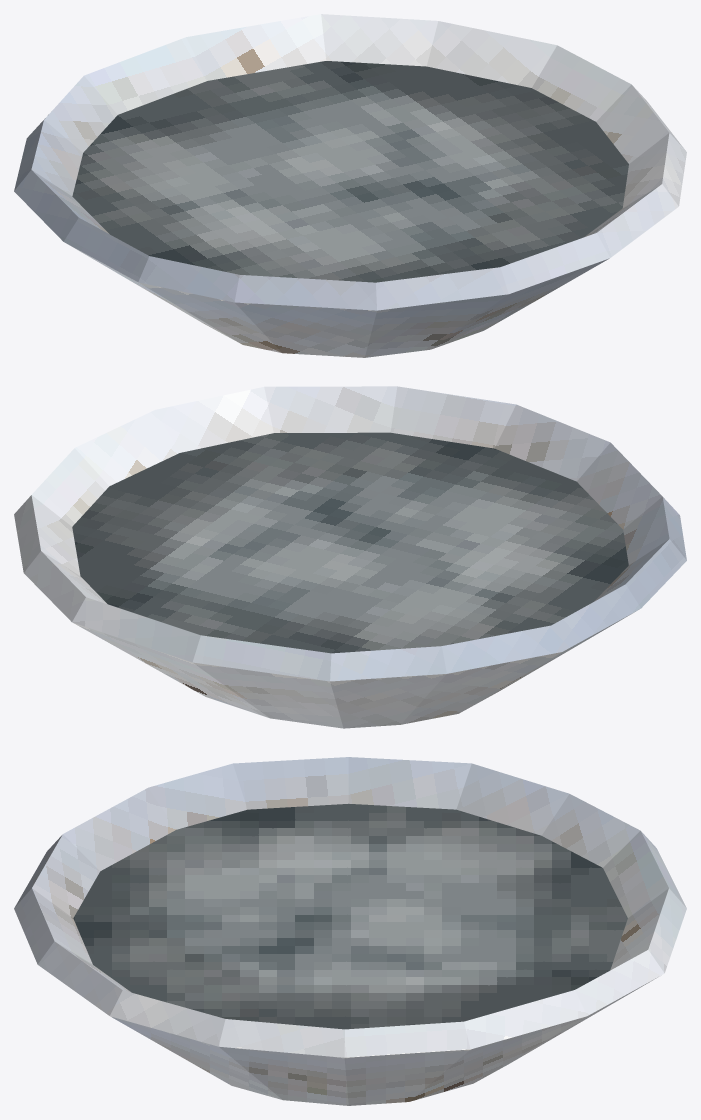
Rendered from soupbowl.glb.
The picture shows the model from 3 angles, top to bottom: view 1: azimuth 30°, elevation 25°; view 2: azimuth 150°, elevation 25°; view 3: azimuth 270°, elevation 25°; orthographic projection.
Visible parts, largest first — view 1: BowlSoup, EmptyBowl; view 2: BowlSoup, EmptyBowl; view 3: BowlSoup, EmptyBowl.
Boxes of the visible parts, x1,y1,x2,y2 form: BowlSoup: [72, 61, 628, 282]; EmptyBowl: [14, 14, 686, 357]; BowlSoup: [72, 432, 628, 653]; EmptyBowl: [14, 386, 686, 728]; BowlSoup: [73, 803, 627, 1029]; EmptyBowl: [14, 757, 686, 1105].
Bounding box in the file's own units: 1.45 × 0.3273 × 1.43.
Materials: 2 (2 with a texture image).
